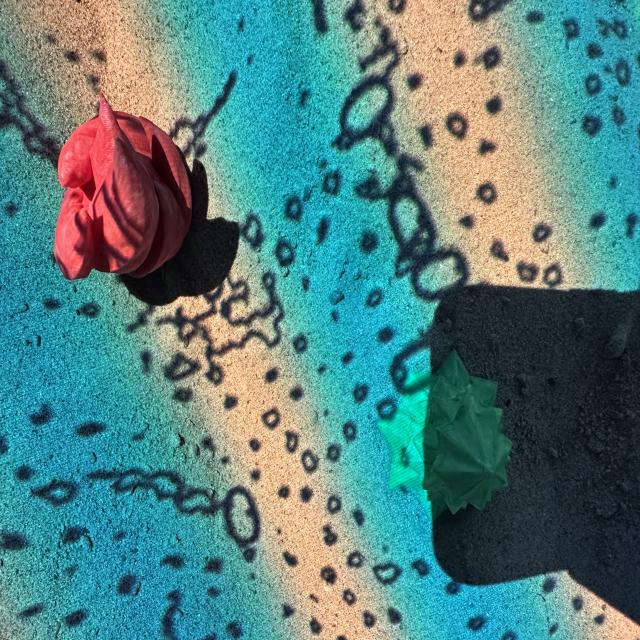fire: (53, 91, 193, 281)
tree: (378, 348, 514, 514)
